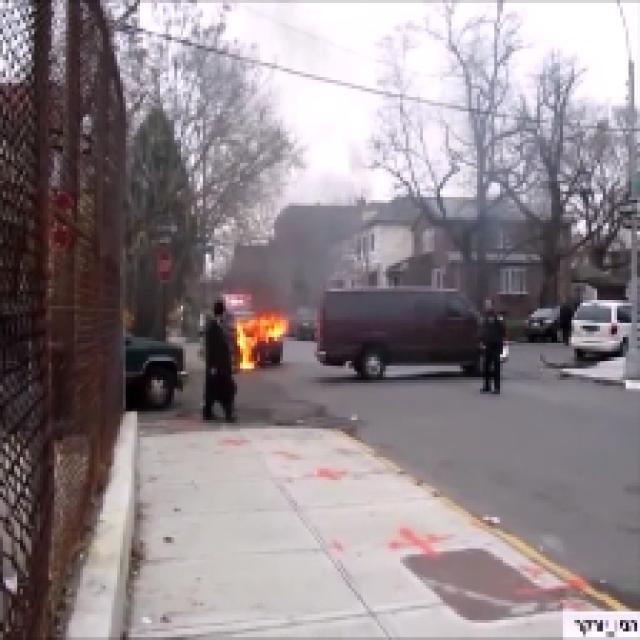fire: (232, 317, 288, 370)
